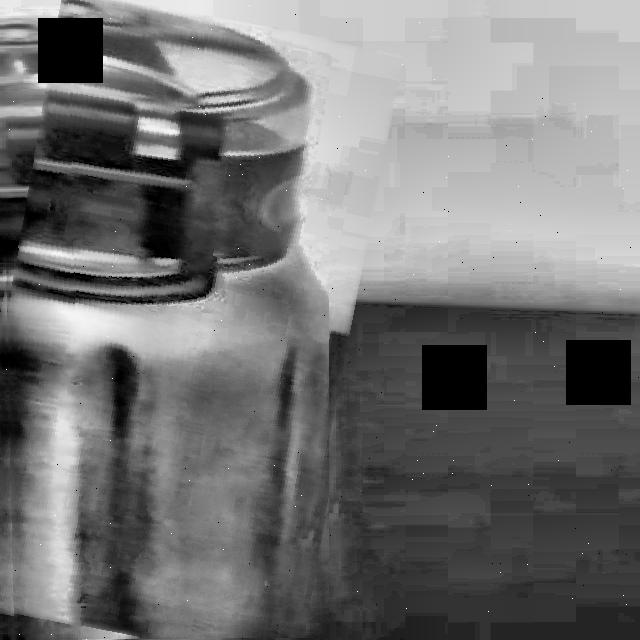bottle: (5, 0, 329, 639)
